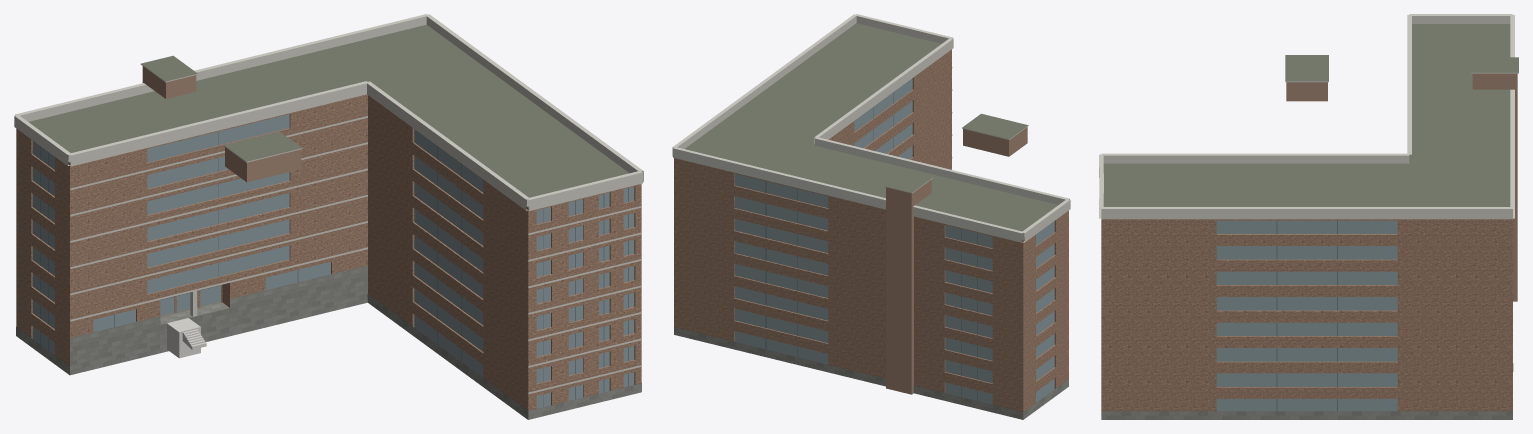
3 views of the same model, side by side, from view 1: azimuth 30°, elevation 25°; view 2: azimuth 150°, elevation 25°; view 3: azimuth 270°, elevation 25° (orthographic). The views are drawn at different scales.
Visible parts, largest first — view 1: b904__wall, b904__roof, b904__glass, b904__trim, b904__base, b904__wall2, b904__entranceStair, b904__frame; view 2: b904__wall, b904__roof, b904__glass, b904__trim, b904__wall2, b904__base, b904__frame; view 3: b904__wall, b904__roof, b904__glass, b904__trim, b904__base, b904__wall2.
Boxes of the visible parts, x1,y1,x2,y2 form: b904__wall: (16, 94, 641, 419); b904__roof: (29, 24, 629, 375); b904__glass: (32, 114, 634, 408); b904__trim: (14, 14, 643, 394); b904__base: (16, 265, 641, 419); b904__wall2: (142, 66, 301, 182); b904__entranceStair: (167, 318, 206, 358); b904__frame: (40, 132, 628, 406); b904__wall: (674, 49, 1068, 419); b904__roof: (685, 23, 1058, 239); b904__glass: (734, 78, 1054, 404); b904__trim: (672, 14, 1070, 242); b904__wall2: (886, 127, 1027, 394); b904__base: (674, 327, 1068, 419); b904__frame: (765, 93, 977, 400); b904__wall: (1101, 219, 1512, 411); b904__roof: (1103, 24, 1518, 206); b904__glass: (1216, 220, 1397, 411); b904__trim: (1099, 14, 1518, 219); b904__base: (1101, 363, 1513, 419); b904__wall2: (1286, 73, 1517, 301).
Bounding box in the file's own units: 57.39 × 31.53 × 52.24.
10 materials, 2 textured.
